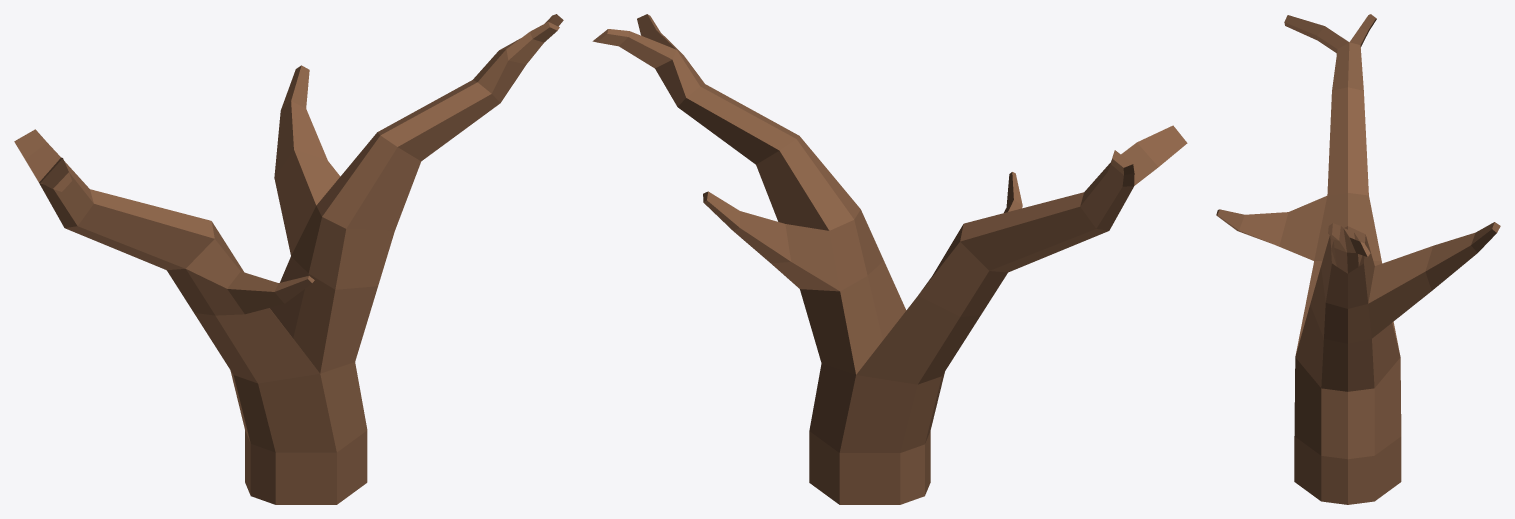
Rendered from DeadWood_twin.fbx.
3 renders of one model, left to right at view 1: azimuth 30°, elevation 25°; view 2: azimuth 150°, elevation 25°; view 3: azimuth 270°, elevation 25°, orthographic. The views are drawn at different scales.
Visible parts, largest first — view 1: 柱体.042; view 2: 柱体.042; view 3: 柱体.042.
Part boxes in pixels (box(x1,y1,x2,y2)): 柱体.042: box(14, 14, 563, 504); 柱体.042: box(592, 14, 1187, 504); 柱体.042: box(1216, 14, 1500, 504).
Bounding box in the file's own units: 305 × 155 × 215.
